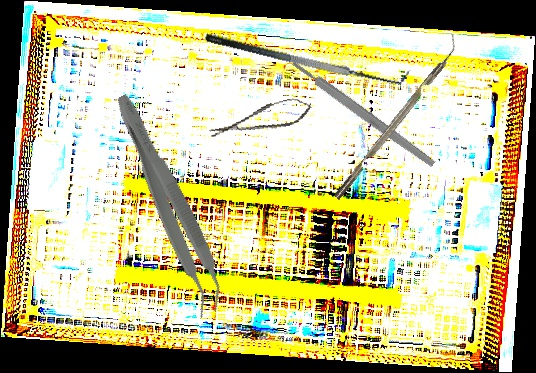Chopper: (325, 33, 466, 201)
Micro Scissor: (206, 94, 315, 144)
Scalpel Handle: (290, 58, 437, 169)
Spatula Surgical: (204, 16, 411, 96)
Tissue Forceps: (99, 89, 236, 320)
